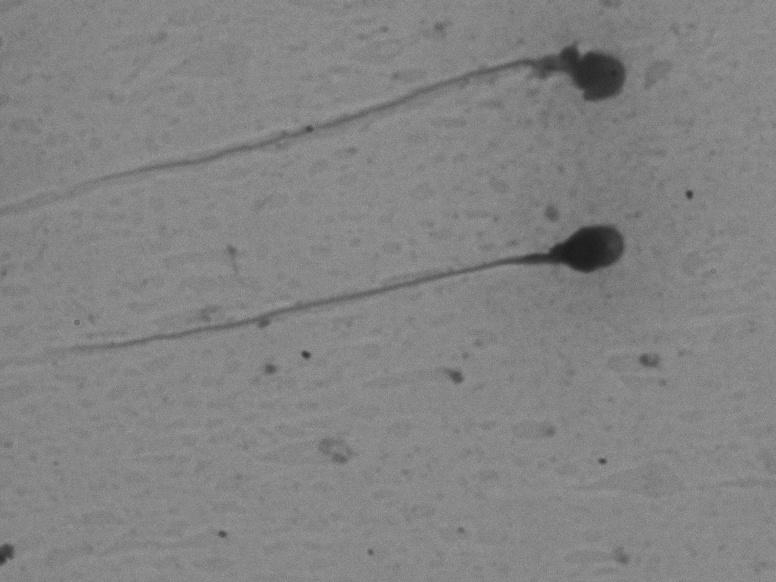Abnormal: (36, 200, 659, 402), (21, 21, 650, 220)
